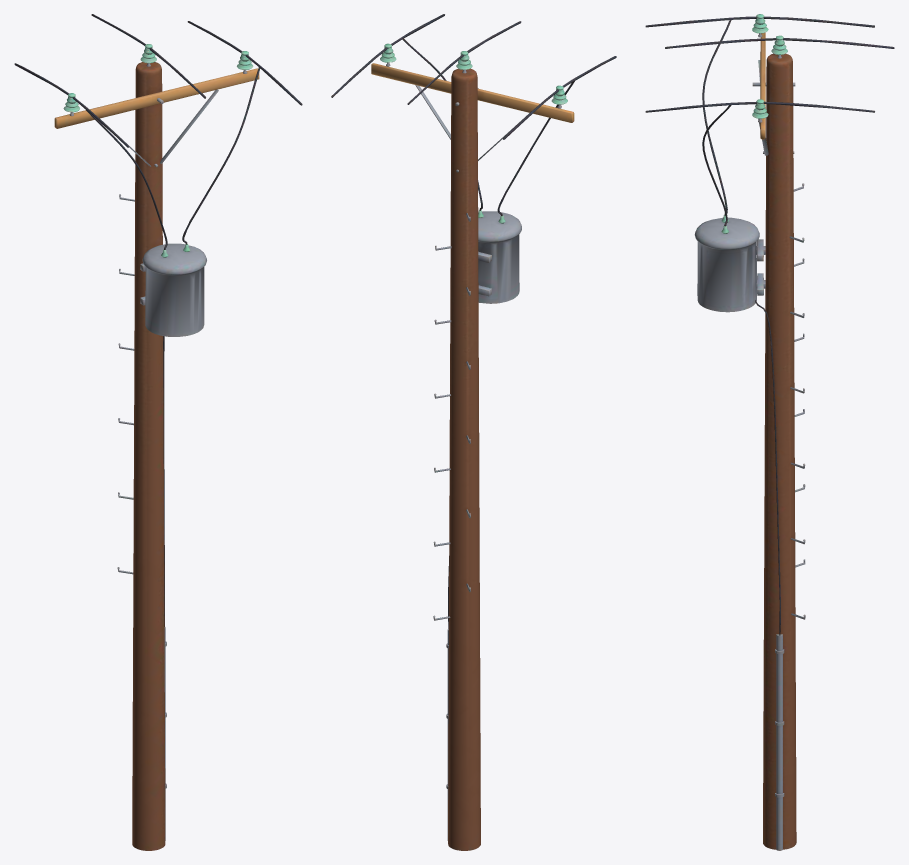
The model's file is power-pole.glb.
3 views of the same model, side by side, from view 1: azimuth 30°, elevation 25°; view 2: azimuth 150°, elevation 25°; view 3: azimuth 270°, elevation 25° (orthographic).
Visible parts, largest first — view 1: power-pole_body; view 2: power-pole_body; view 3: power-pole_body.
Part boxes in pixels (<box>): power-pole_body: <box>14,14,302,850</box>; power-pole_body: <box>331,14,616,850</box>; power-pole_body: <box>645,14,894,850</box>.
Size of the model in its own units: 2.4 by 8.99 by 2.52.
Materials: 1 (1 with a texture image).
